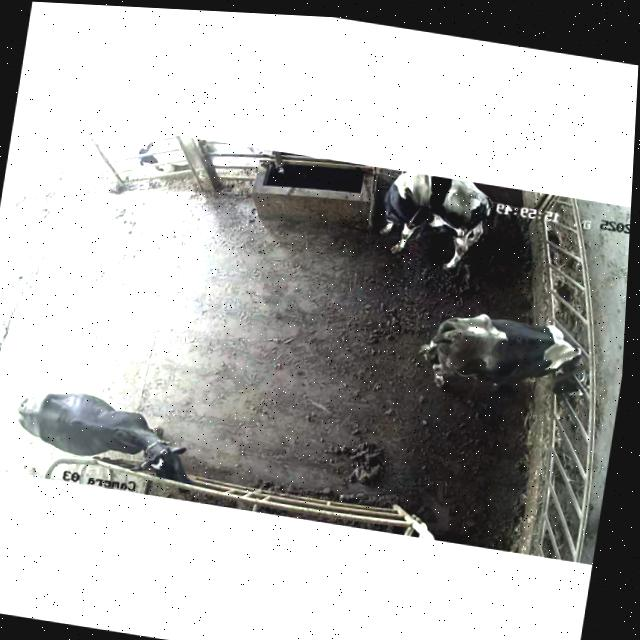stand: (1, 352, 219, 484), (364, 166, 498, 278)
